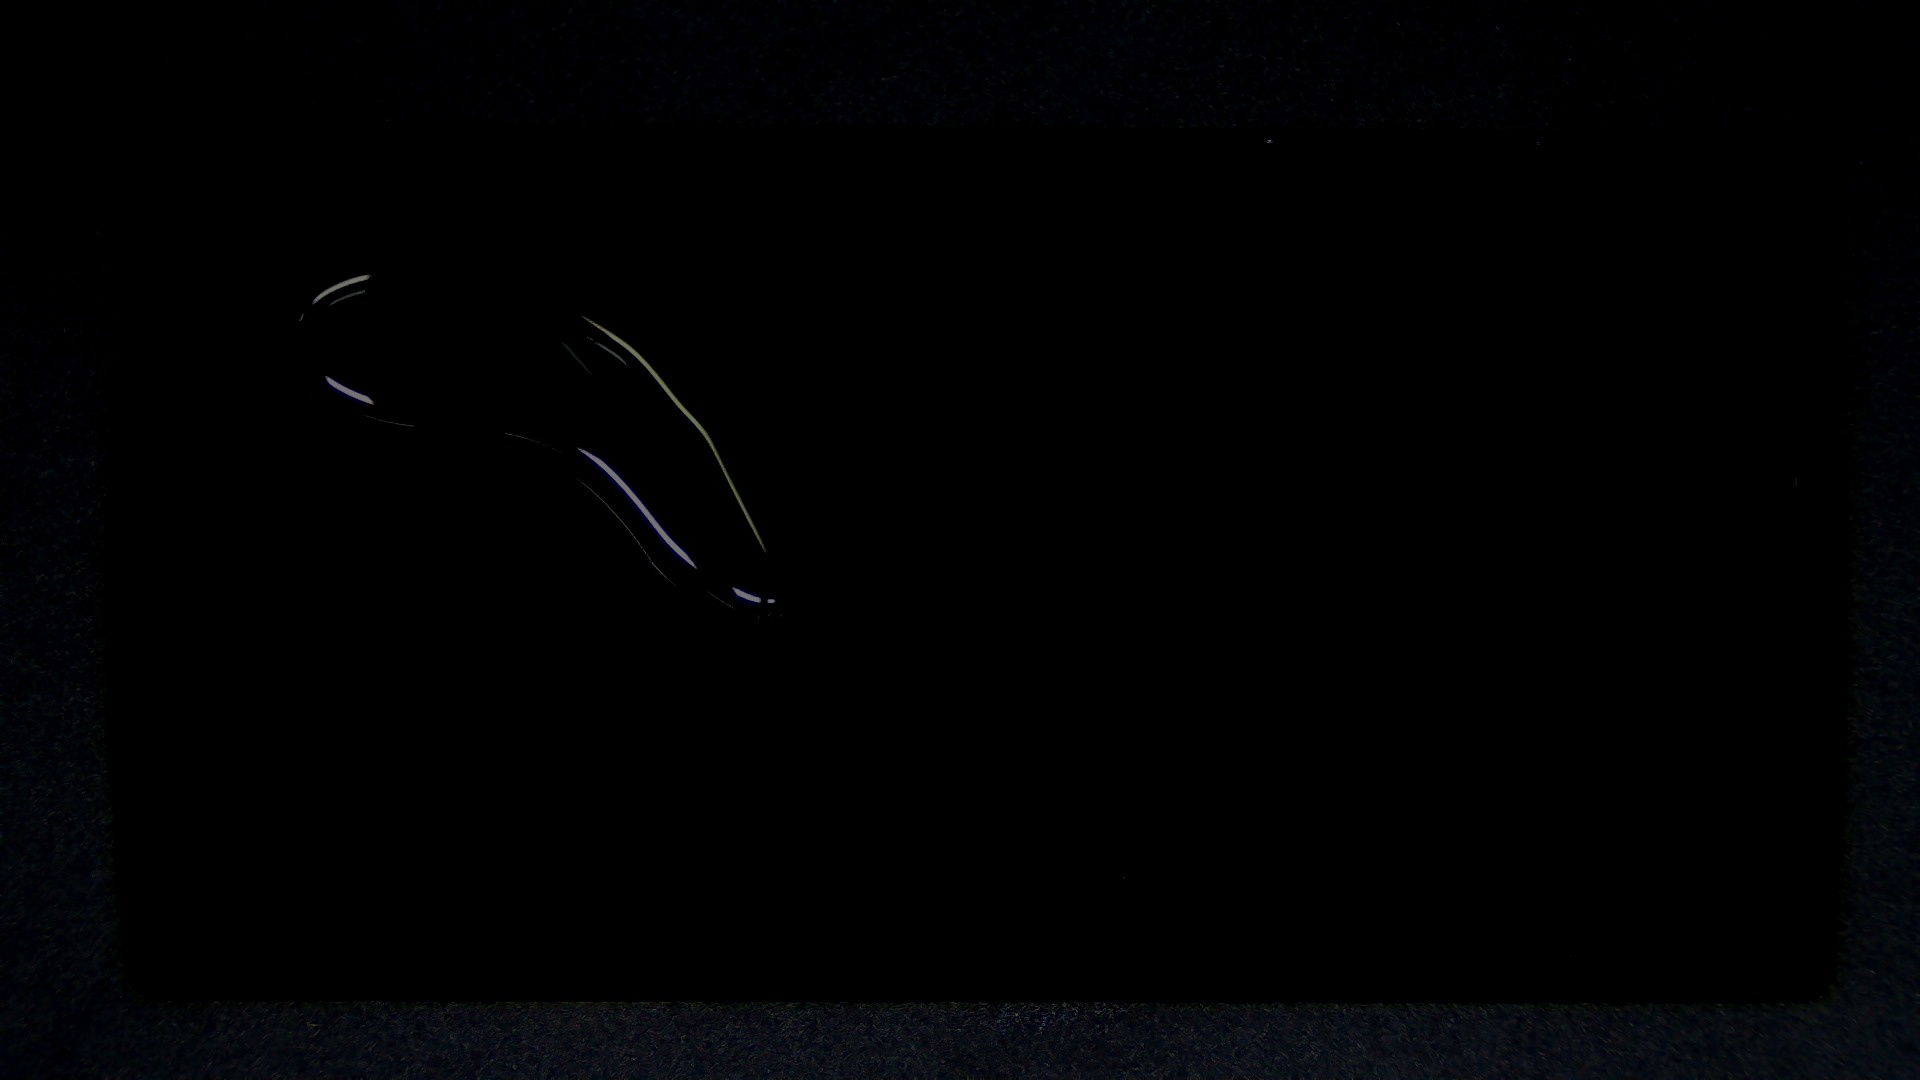oil: (198, 128, 592, 386)
